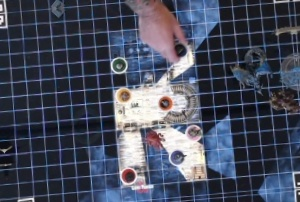blue: (170, 41, 188, 57)
green: (108, 55, 128, 74)
orange: (155, 93, 175, 110)
pink: (183, 122, 202, 142)
red: (117, 165, 138, 186)
violet: (165, 148, 185, 167)
yellow: (113, 84, 131, 105)
